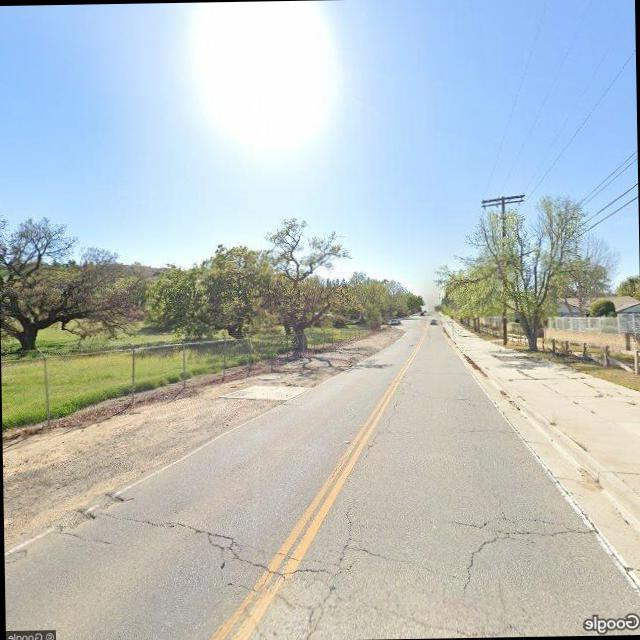crack: (136, 502, 398, 640), (446, 501, 592, 590), (360, 402, 400, 458), (460, 424, 518, 436)
